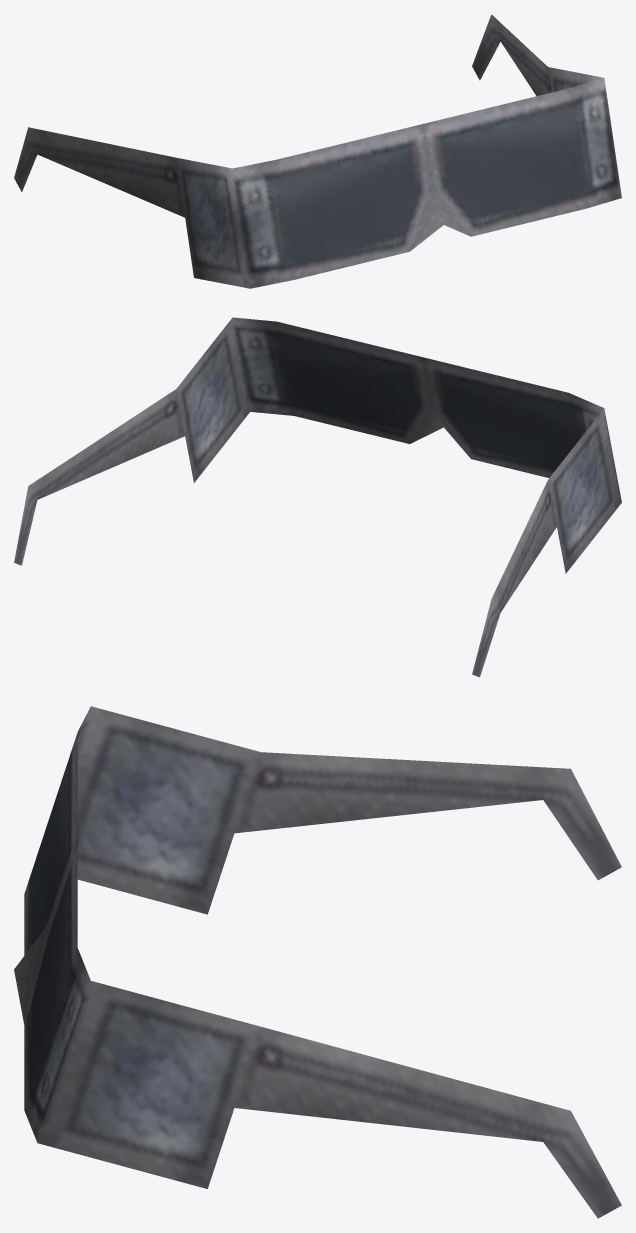
Rendered from Glasses4.glb.
3 views of the same model, one above another, from view 1: azimuth 30°, elevation 25°; view 2: azimuth 150°, elevation 25°; view 3: azimuth 270°, elevation 25° (orthographic). The views are drawn at different scales.
Parts seen in each view (by area): view 1: Glasses4; view 2: Glasses4; view 3: Glasses4.
Boxes of the visible parts, <box> form: Glasses4: <box>14,14,621,288</box>; Glasses4: <box>14,317,621,677</box>; Glasses4: <box>14,706,621,1218</box>.
Bounding box in the file's own units: 9.94 × 2.87 × 7.47.
Materials: 1 (1 with a texture image).
